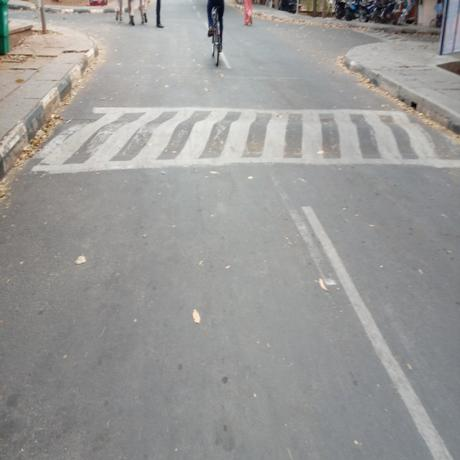Speed Bump: (38, 106, 460, 169)
